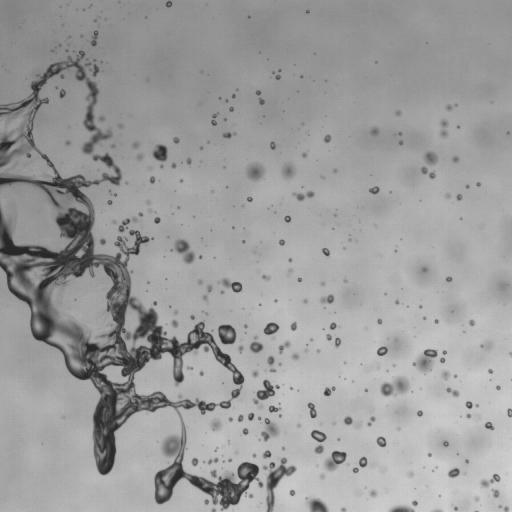droplet: (379, 375, 410, 396), (412, 349, 437, 373), (174, 239, 194, 263), (324, 450, 346, 471), (261, 418, 279, 441), (217, 324, 236, 344), (311, 430, 326, 453), (246, 162, 265, 180), (305, 497, 329, 511), (152, 144, 167, 162), (263, 322, 279, 338), (249, 336, 263, 353), (281, 163, 295, 178), (424, 151, 437, 165), (210, 419, 221, 431), (320, 294, 334, 303), (480, 340, 492, 350), (448, 467, 460, 477), (268, 404, 281, 413), (377, 346, 388, 356), (376, 436, 386, 447), (90, 64, 99, 76), (323, 387, 335, 396), (343, 416, 353, 425), (358, 457, 367, 467), (369, 186, 379, 194), (441, 370, 449, 379), (485, 421, 494, 429), (262, 450, 271, 458), (491, 489, 499, 497), (324, 134, 331, 143), (334, 337, 340, 347), (371, 127, 378, 135), (322, 248, 329, 256), (171, 319, 178, 327), (290, 322, 297, 330), (329, 322, 337, 329), (465, 401, 473, 408), (191, 458, 198, 466), (369, 490, 377, 497), (132, 141, 139, 148), (136, 153, 143, 160), (251, 370, 258, 377), (59, 89, 65, 97), (149, 176, 155, 183), (99, 238, 105, 245), (248, 413, 254, 420), (237, 414, 243, 421), (407, 471, 414, 477), (270, 141, 275, 149), (173, 137, 179, 143), (452, 156, 458, 162), (154, 217, 160, 223), (284, 216, 290, 222), (292, 353, 298, 359), (507, 408, 511, 417), (417, 410, 423, 416), (355, 422, 361, 428), (242, 428, 248, 434), (166, 0, 171, 7), (262, 275, 269, 280), (445, 276, 452, 281), (469, 319, 474, 326), (238, 345, 243, 352), (259, 98, 264, 104), (446, 105, 452, 110), (395, 110, 401, 115), (186, 158, 191, 164), (457, 194, 462, 200), (246, 196, 252, 201), (279, 239, 284, 245), (326, 334, 331, 340), (353, 467, 358, 473), (289, 490, 295, 495), (275, 74, 280, 79), (99, 116, 104, 121), (302, 152, 307, 157), (171, 163, 176, 168), (445, 193, 450, 198), (466, 413, 471, 418), (443, 441, 448, 446), (474, 496, 479, 501), (377, 318, 381, 324), (440, 357, 444, 363), (187, 366, 193, 370), (340, 507, 346, 511), (256, 90, 260, 95), (119, 123, 123, 128), (111, 192, 116, 196), (107, 200, 112, 204), (198, 279, 202, 284), (488, 369, 493, 373), (496, 385, 500, 390), (204, 499, 208, 504), (229, 107, 233, 111), (476, 182, 480, 186), (146, 200, 150, 204), (138, 212, 142, 216), (297, 277, 301, 281), (303, 299, 307, 303), (153, 301, 157, 305), (190, 315, 194, 319), (434, 319, 438, 323), (442, 350, 446, 354), (199, 371, 203, 375), (228, 417, 232, 421), (320, 474, 324, 478), (454, 506, 457, 511), (211, 508, 216, 511), (66, 141, 70, 144), (288, 258, 292, 261), (422, 268, 426, 271), (395, 300, 398, 304), (252, 453, 255, 457), (232, 94, 235, 97), (399, 141, 402, 144), (111, 144, 114, 147), (333, 169, 336, 172), (466, 185, 469, 188), (113, 220, 116, 223), (289, 269, 292, 272), (321, 282, 324, 285), (220, 290, 223, 293), (244, 324, 247, 327), (453, 374, 456, 377), (258, 417, 261, 420), (428, 453, 431, 456), (381, 467, 384, 470), (509, 352, 511, 356), (160, 165, 163, 167), (180, 179, 182, 182), (149, 209, 152, 211), (199, 256, 202, 258), (344, 279, 346, 282), (174, 311, 177, 313), (423, 316, 425, 319), (310, 338, 312, 341), (317, 349, 319, 352), (278, 363, 281, 365), (476, 404, 478, 407), (228, 459, 231, 461), (465, 460, 468, 462), (94, 19, 96, 21), (399, 132, 401, 134), (200, 147, 202, 149), (290, 387, 292, 389), (397, 427, 399, 429), (282, 447, 284, 449), (215, 449, 217, 451), (374, 464, 376, 466)
ligament: (0, 53, 296, 511), (253, 379, 279, 408), (219, 278, 242, 292), (388, 500, 417, 511), (118, 217, 137, 232), (480, 474, 500, 488), (292, 191, 314, 201), (421, 166, 435, 178), (202, 284, 212, 300), (278, 340, 290, 353), (307, 402, 316, 418), (267, 355, 275, 372), (446, 387, 459, 397), (440, 119, 447, 137), (91, 30, 98, 46), (211, 113, 218, 125), (206, 457, 218, 464), (367, 416, 375, 426), (222, 132, 235, 138), (499, 505, 508, 511), (431, 509, 442, 511)
